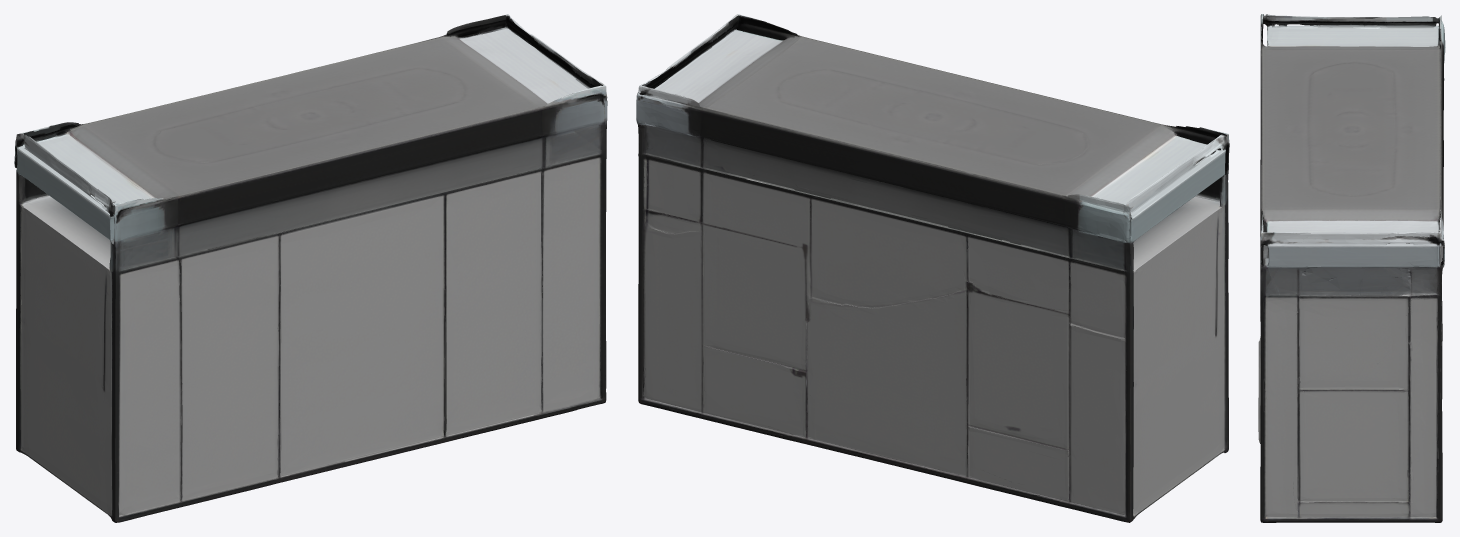
File: VoxHammer.glb
The picture shows the model from 3 angles, left to right: view 1: azimuth 30°, elevation 25°; view 2: azimuth 150°, elevation 25°; view 3: azimuth 270°, elevation 25°; orthographic projection. The views are drawn at different scales.
Parts seen in each view (by area): view 1: world; view 2: world; view 3: world.
Boxes of the visible parts, x1,y1,x2,y2 form: world: (14,14,607,522); world: (636,14,1229,522); world: (1258,14,1445,522).
Size of the model in its own units: 0.6514 by 0.4013 by 0.2338.
1 material, 1 textured.
